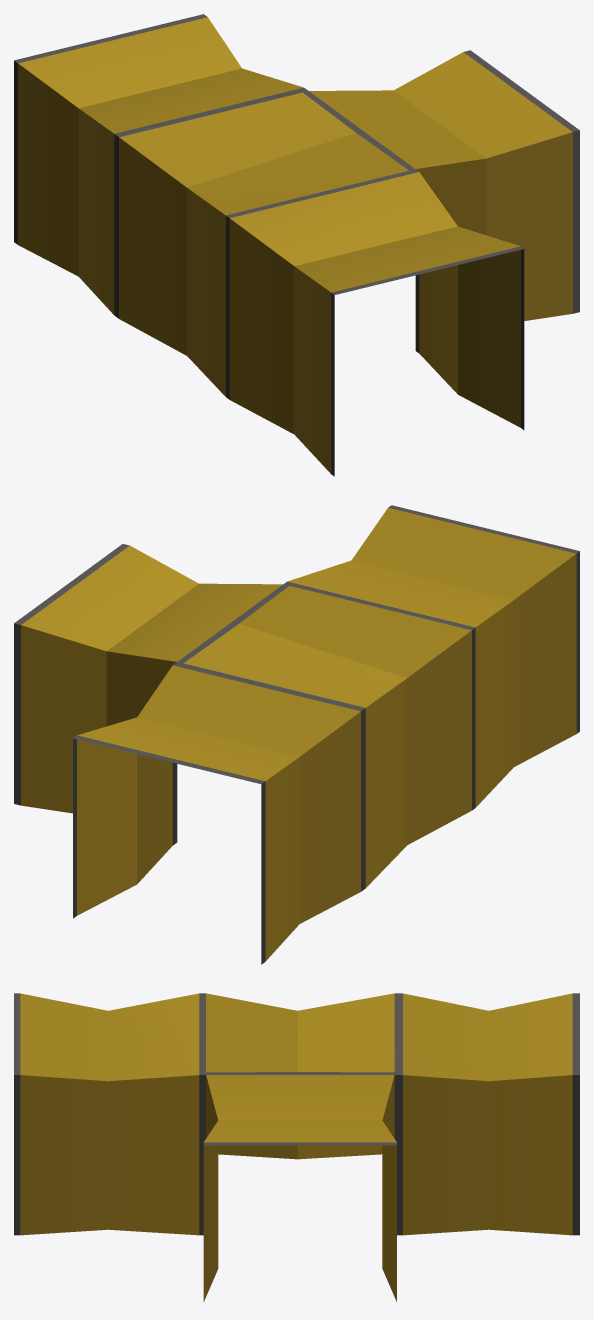
Rendered from SA_Prop_BioTube_02.glb.
The picture shows the model from 3 angles, top to bottom: view 1: azimuth 30°, elevation 25°; view 2: azimuth 150°, elevation 25°; view 3: azimuth 270°, elevation 25°; orthographic projection. The views are drawn at different scales.
Visible parts, largest first — view 1: SA_Prop_BioTube_02; view 2: SA_Prop_BioTube_02; view 3: SA_Prop_BioTube_02.
Boxes of the visible parts, bbox=[...] form: SA_Prop_BioTube_02: bbox=[14, 14, 579, 476]; SA_Prop_BioTube_02: bbox=[14, 505, 579, 964]; SA_Prop_BioTube_02: bbox=[14, 993, 579, 1301].
Size of the model in its own units: 3.34 by 1.65 by 5.26.
Materials: 1 (1 with a texture image).
